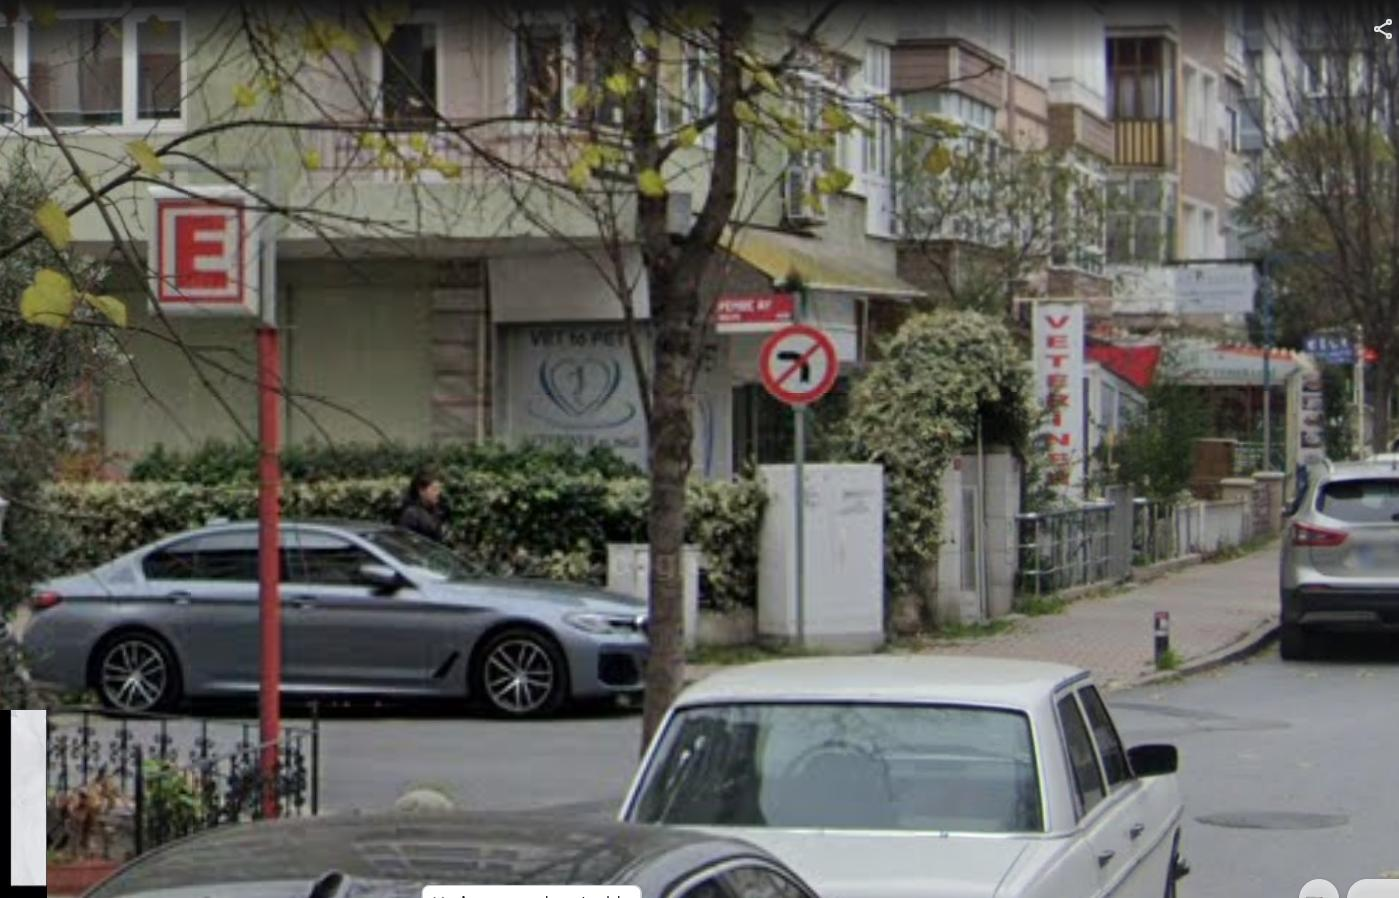leftturnsareforbidden: (769, 330, 835, 402)
